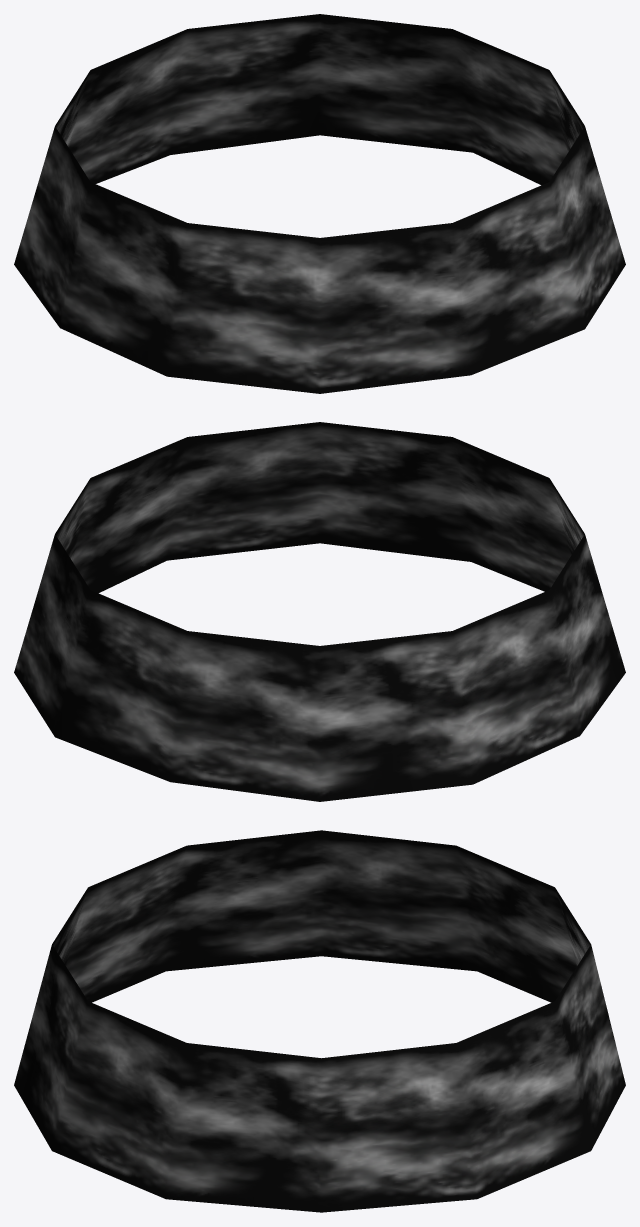
3 views of the same model, one above another, from view 1: azimuth 30°, elevation 25°; view 2: azimuth 150°, elevation 25°; view 3: azimuth 270°, elevation 25° (orthographic).
Parts seen in each view (by area): view 1: wu02; view 2: wu02; view 3: wu02.
Boxes of the visible parts, box(x1,y1,x2,y2) form: wu02: box(14, 14, 625, 393); wu02: box(14, 422, 625, 801); wu02: box(14, 830, 625, 1212).
Bounding box in the file's own units: 1960 × 503 × 1978.
